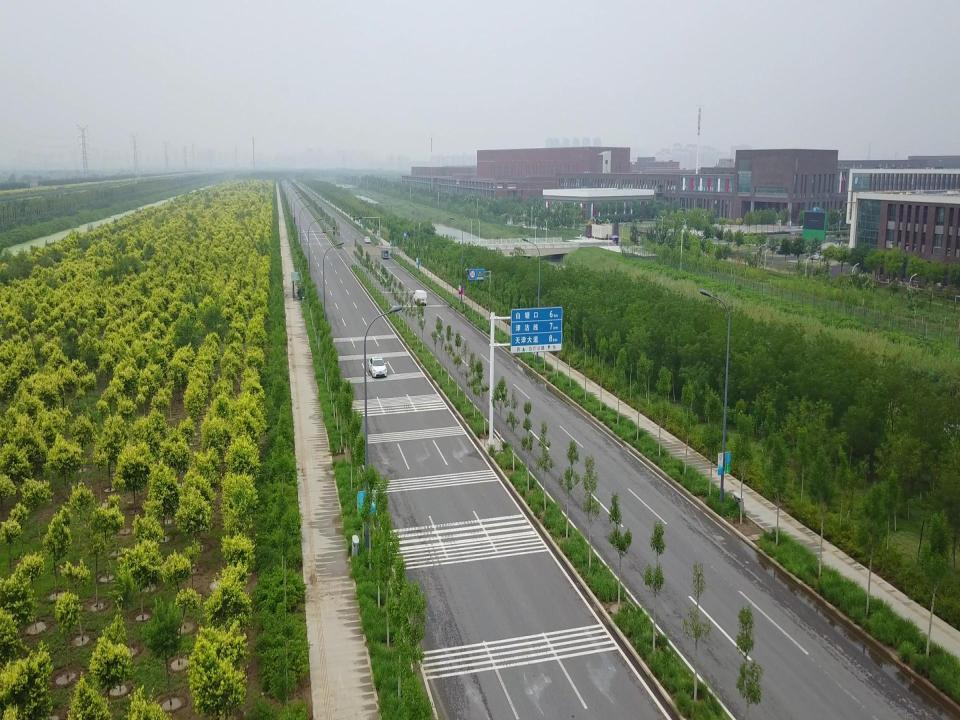car: (368, 357, 388, 377), (364, 236, 371, 243)
van: (413, 289, 427, 305), (381, 249, 389, 259)
